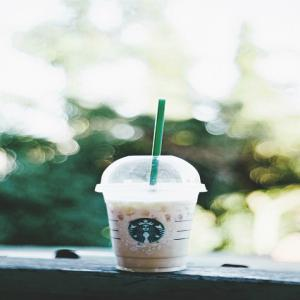Cup: (96, 157, 209, 274)
